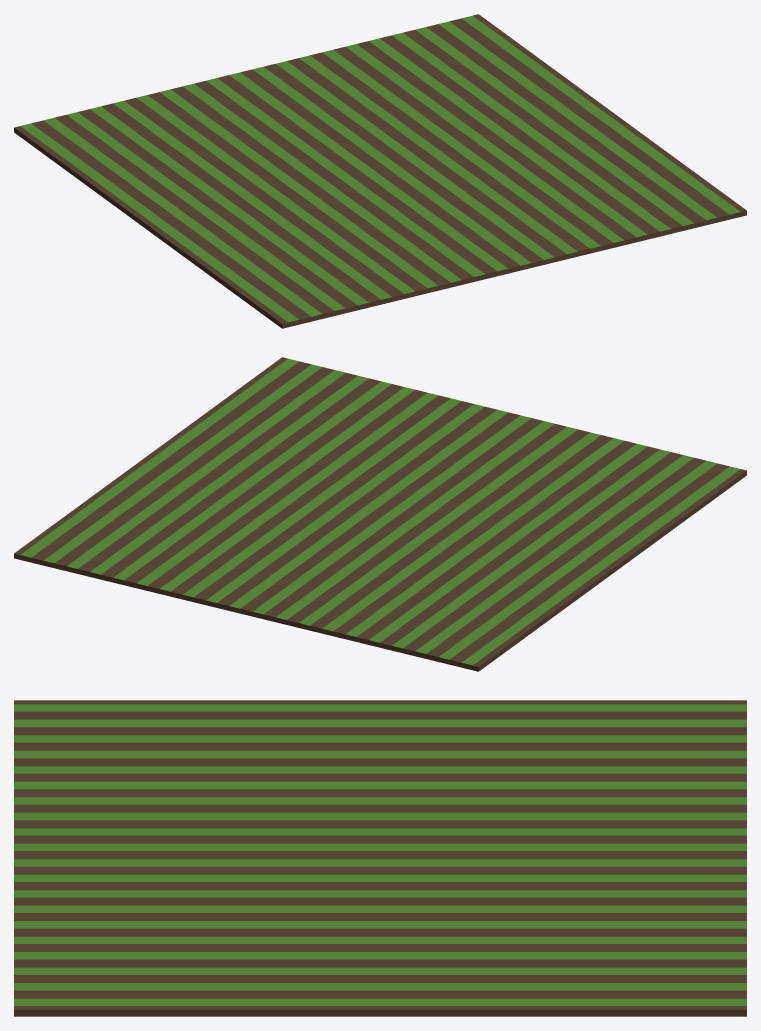
File: far.fbx
The picture shows the model from 3 angles, top to bottom: view 1: azimuth 30°, elevation 25°; view 2: azimuth 150°, elevation 25°; view 3: azimuth 270°, elevation 25°; orthographic projection. The views are drawn at different scales.
Parts seen in each view (by area): view 1: a1002/0/far; view 2: a1002/0/far; view 3: a1002/0/far.
Part boxes in pixels (x1,y1,x2,y2): a1002/0/far: (14, 14, 746, 328); a1002/0/far: (14, 357, 746, 671); a1002/0/far: (14, 700, 746, 1016).
Bounding box in the file's own units: 50 × 0.5 × 50.
